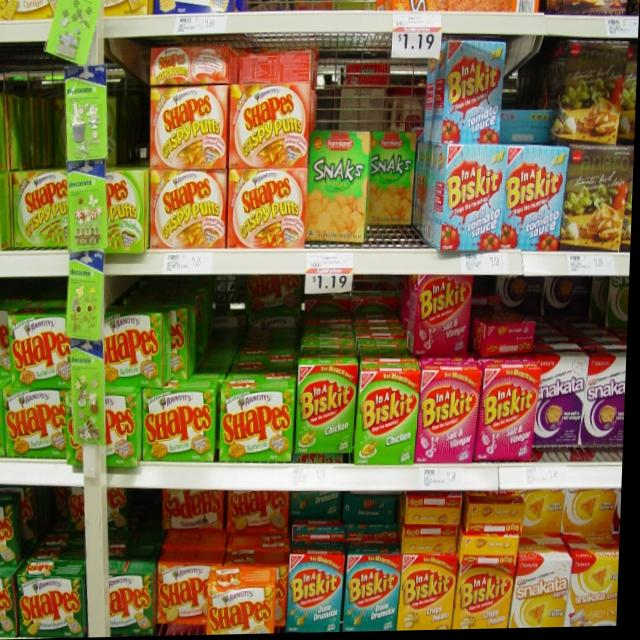q286: (298, 358, 360, 463), (362, 363, 421, 464)
